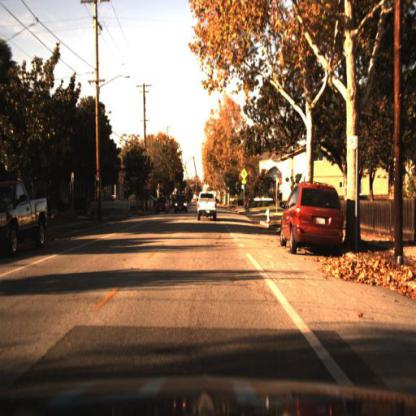car: (279, 179, 346, 254), (1, 178, 51, 260), (198, 191, 218, 222), (155, 195, 171, 218), (172, 197, 189, 215), (175, 194, 189, 214)
